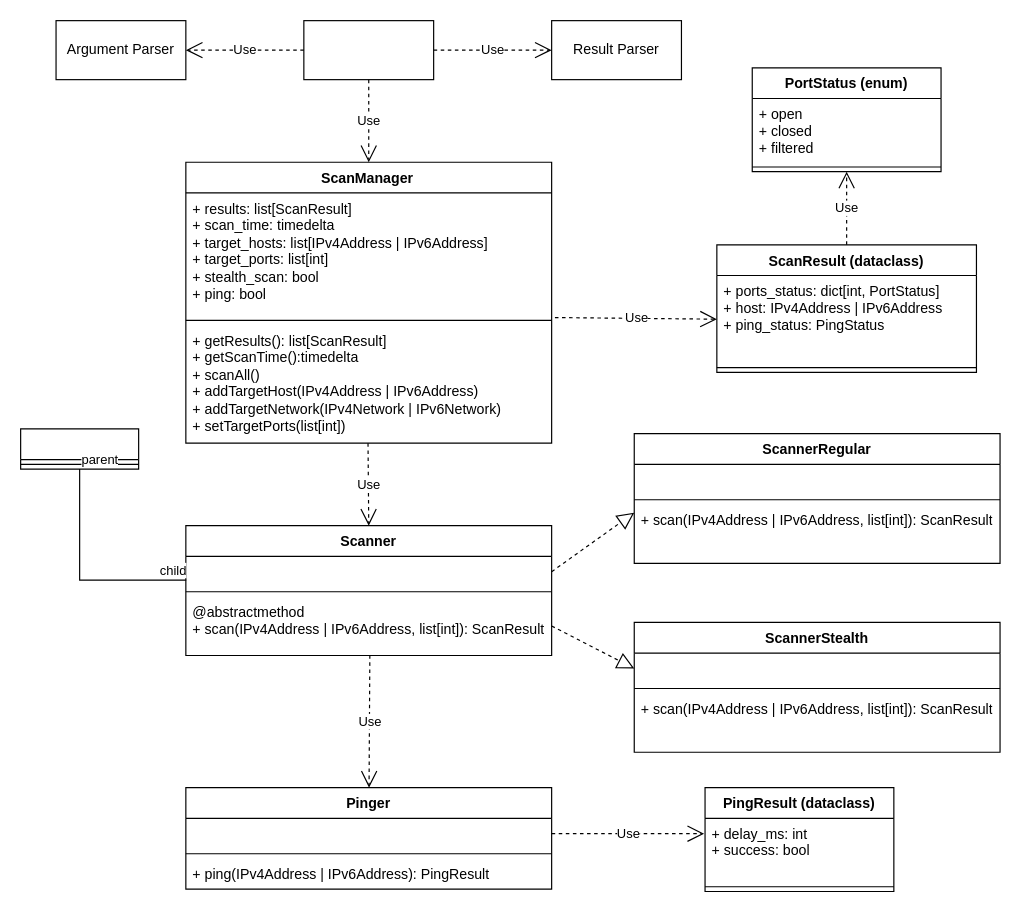
This 1021x913 diagram has some shape labels left out. Here are the shapes that lost their labels. From the top down, the centre of each, then its label:
At (x=368, y=49): "main".
At (x=79, y=448): "ABC".
